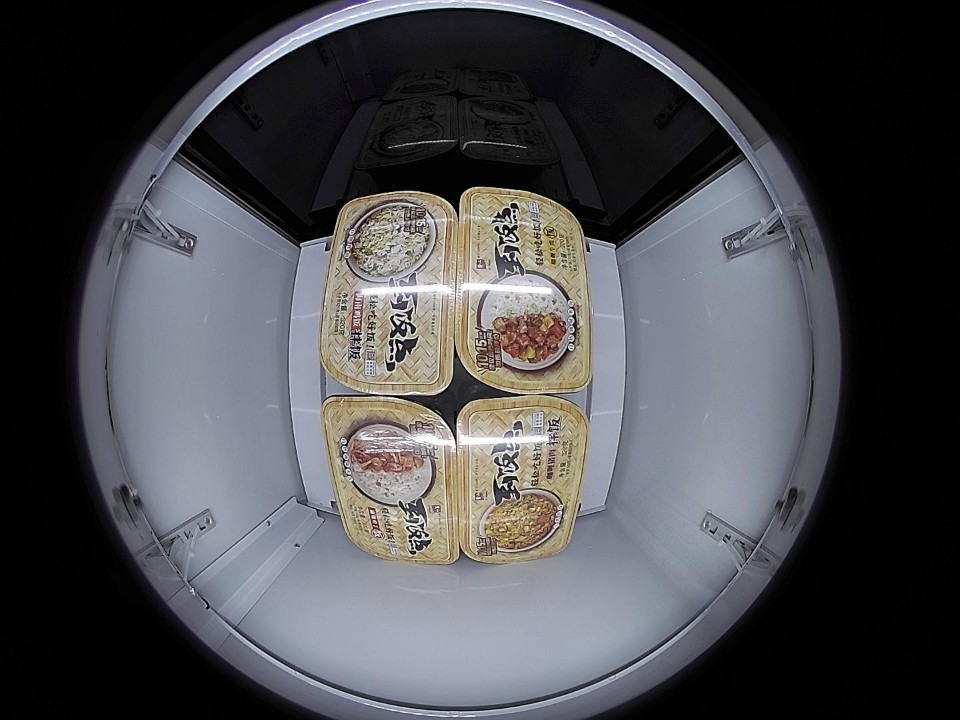daofandian1: (320, 189, 459, 397)
daofandian2: (455, 187, 592, 396)
daofandian3: (455, 394, 588, 565)
daofandian4: (322, 394, 461, 565)
